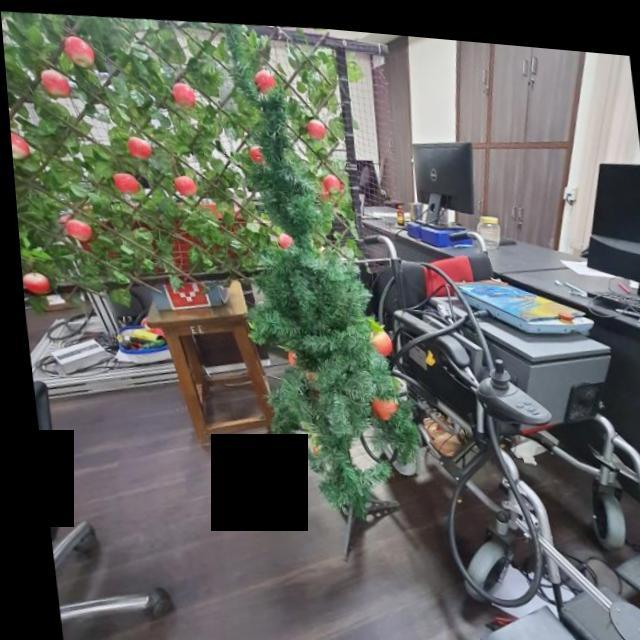Tree: (223, 72, 416, 570)
